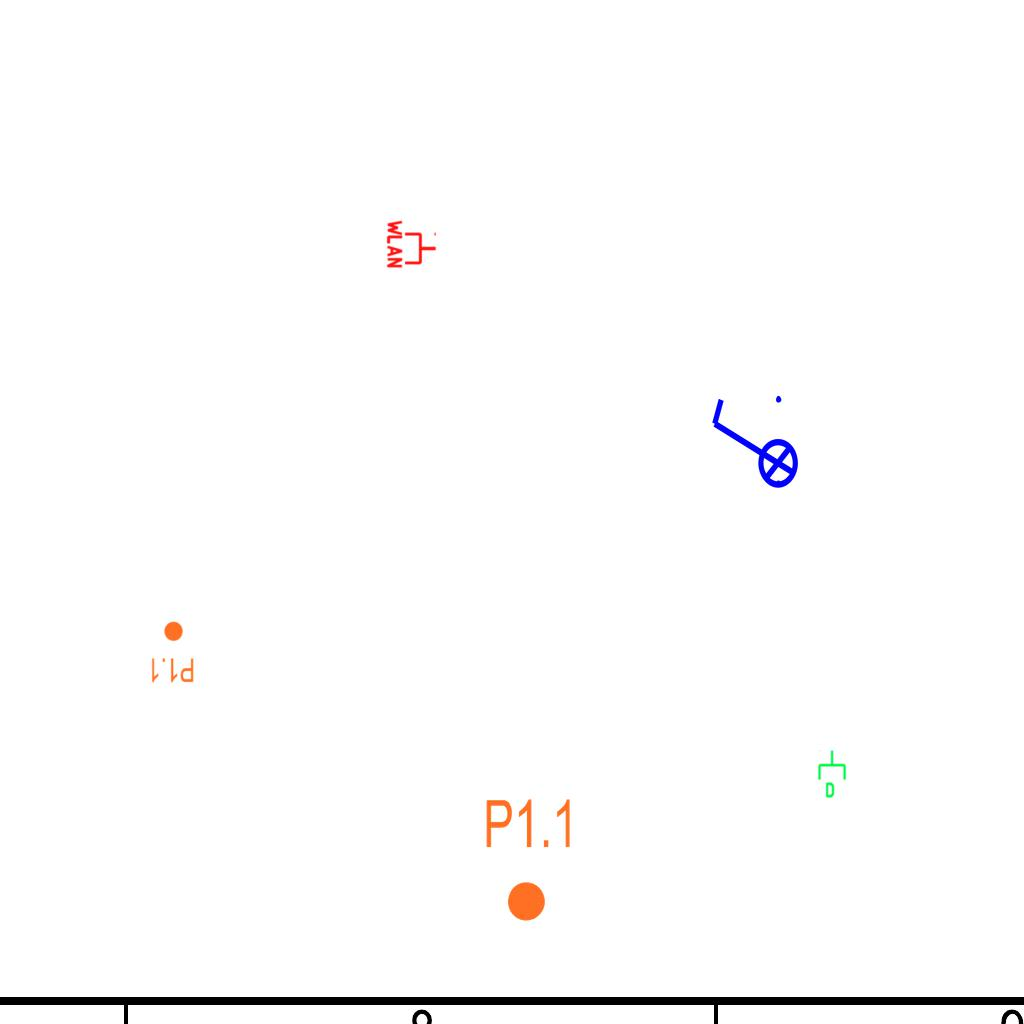Ausschalter_beleuchtet: (704, 390, 800, 502)
Datenanschluss_einfach: (816, 749, 850, 799)
Downlight_LED_Einbauleuchten_Flur: (483, 796, 576, 924), (149, 620, 195, 684)
WLAN: (386, 218, 438, 270)
